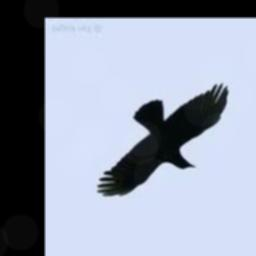Crow: (97, 83, 230, 197)
